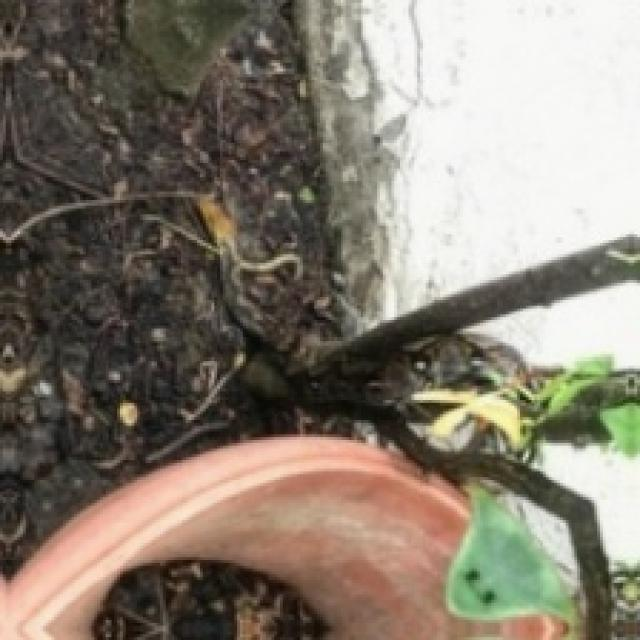reticulated python: (375, 331, 526, 398)
